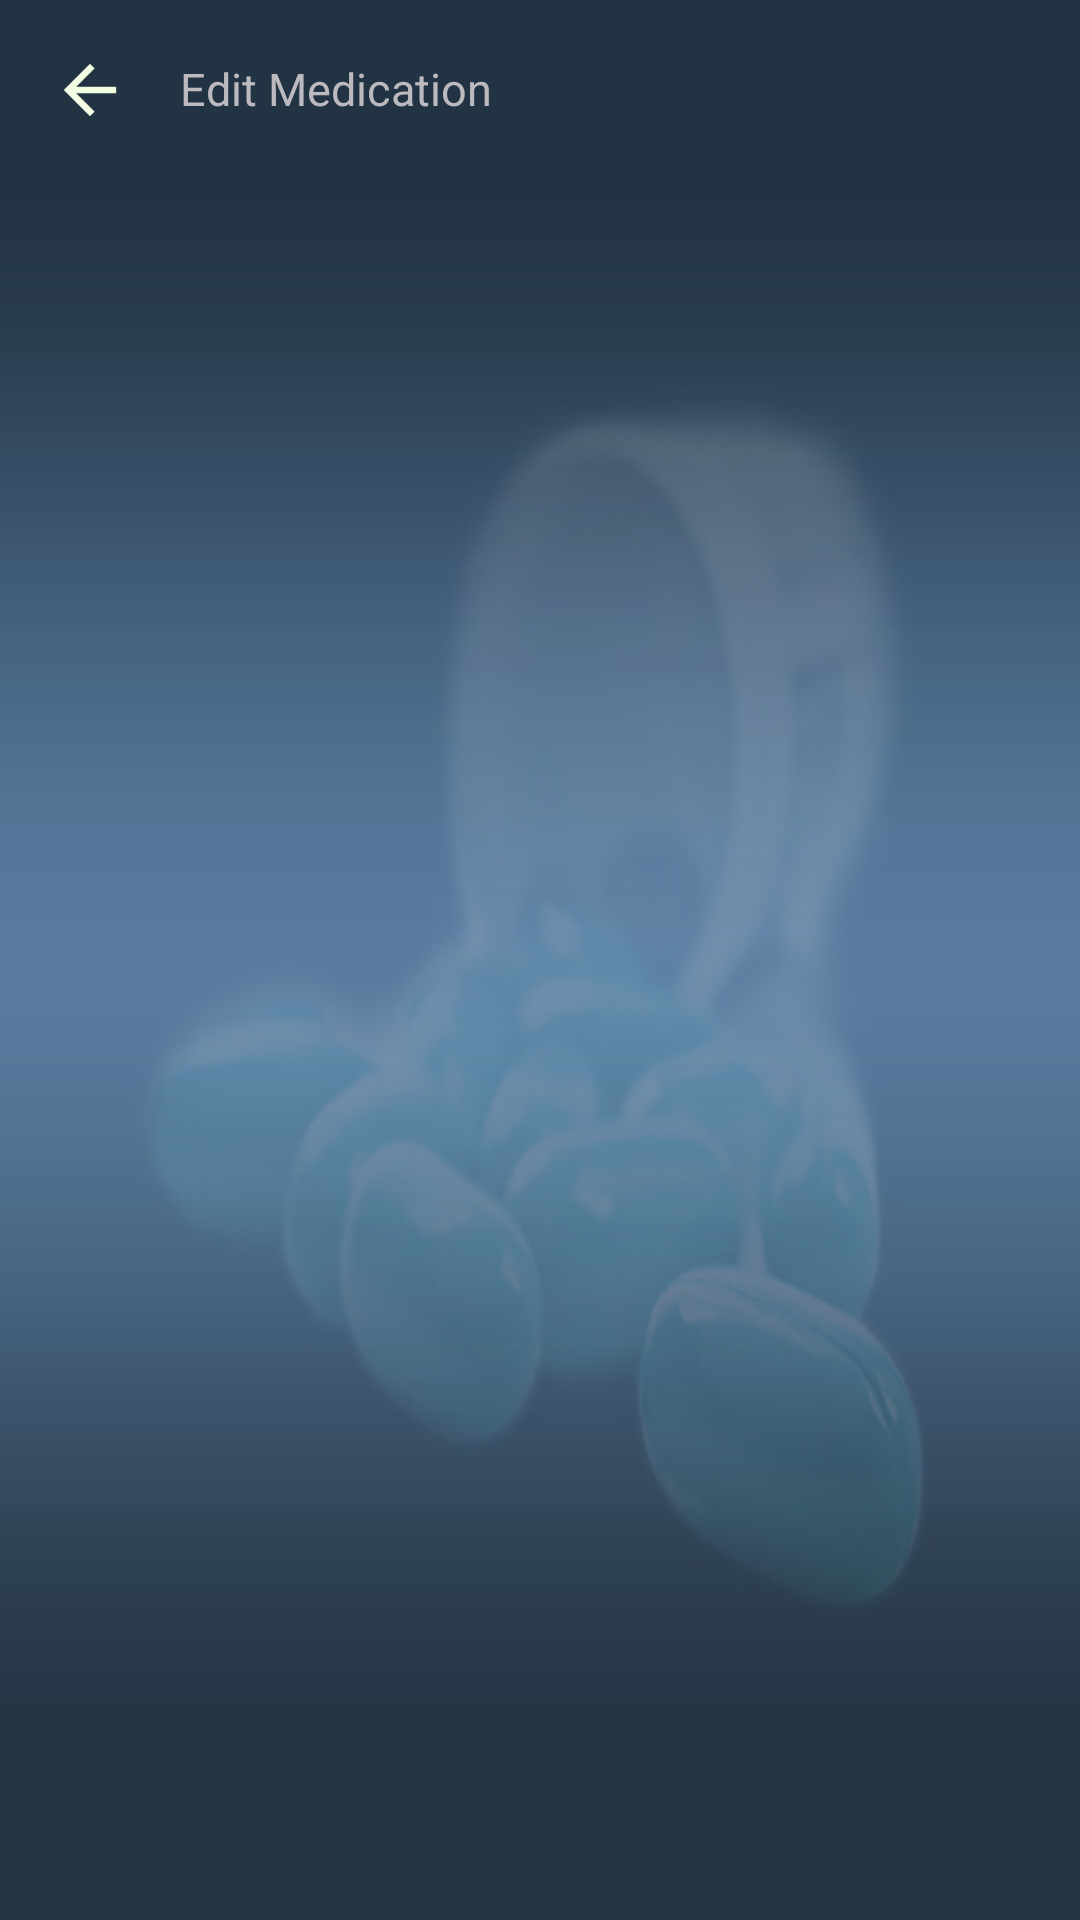

Locate icon controls on the screen. Image size 1080×1920, boxes as bbox=[x1, y1, x2, y2].
arrow back: bbox=[64, 64, 117, 116]
